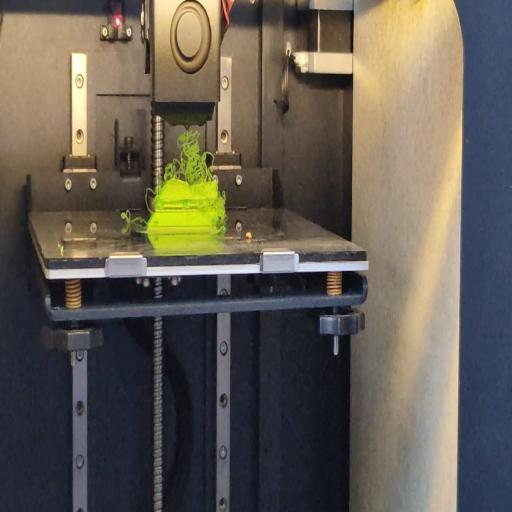spaghetti: (164, 128, 218, 182), (120, 210, 147, 224), (144, 186, 156, 212), (218, 222, 225, 232)
